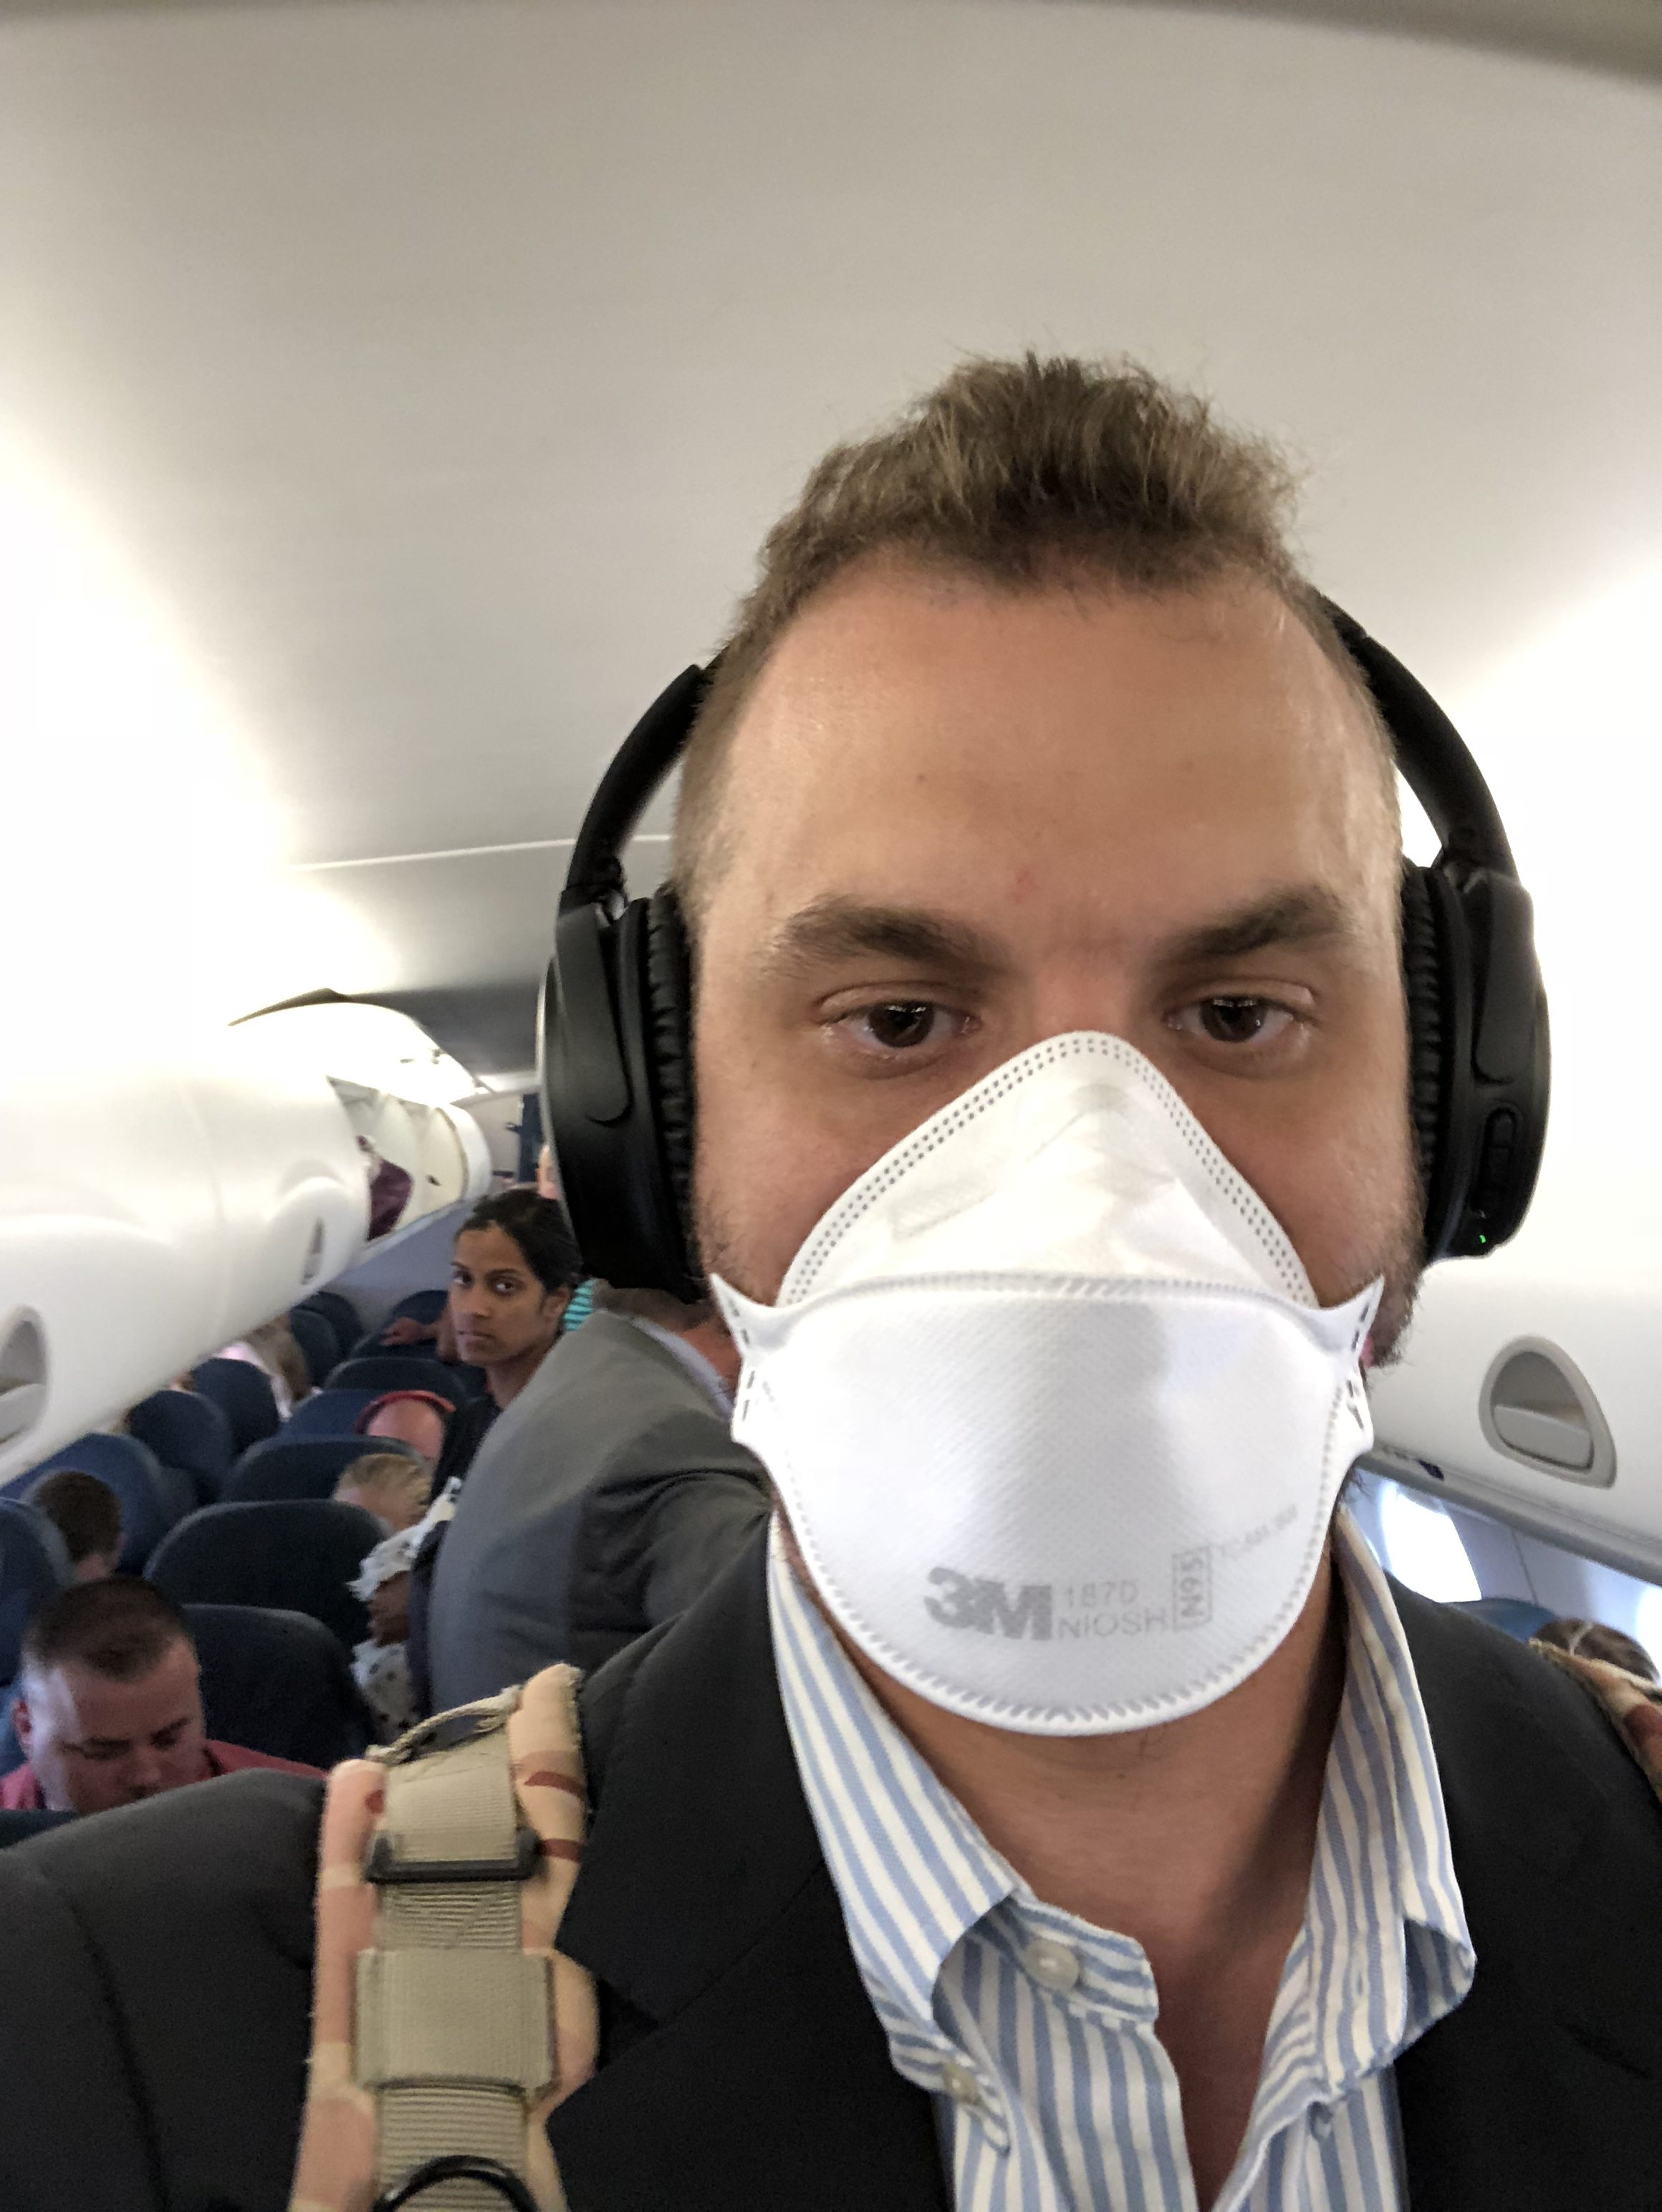n95: (681, 1025, 1419, 1751)
